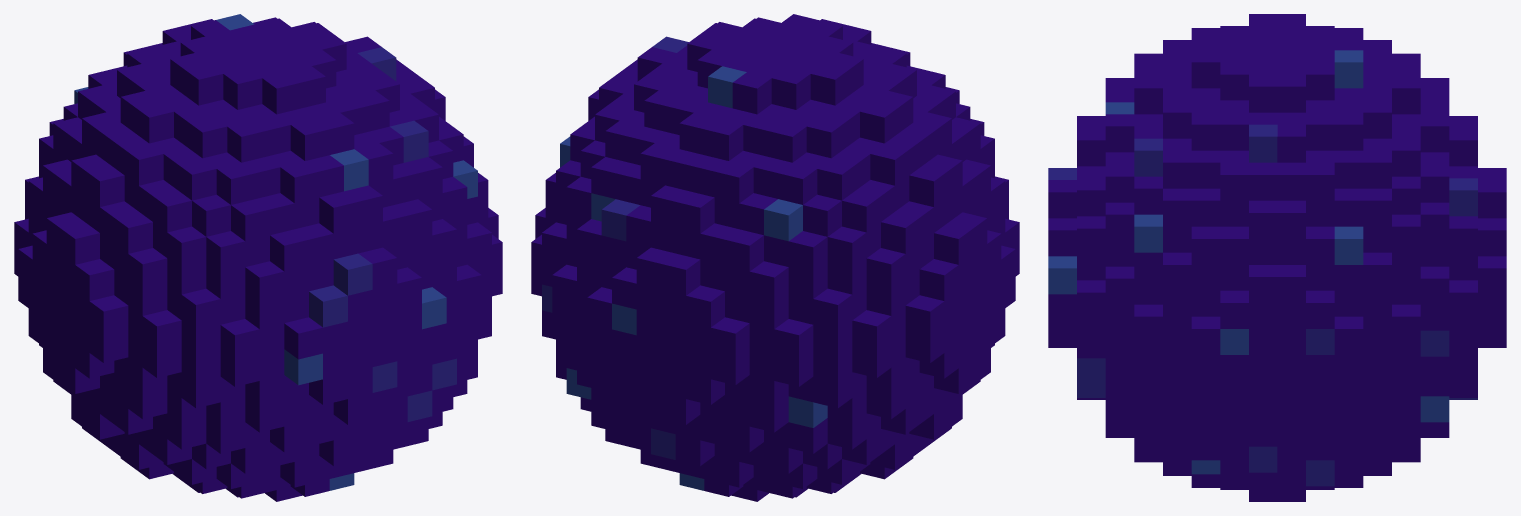
File: planetas-16-azulescuro.obj
The picture shows the model from 3 angles, left to right: view 1: azimuth 30°, elevation 25°; view 2: azimuth 150°, elevation 25°; view 3: azimuth 270°, elevation 25°; orthographic projection.
Size of the model in its own units: 1.6 by 1.6 by 1.6.
1 material, 1 textured.
